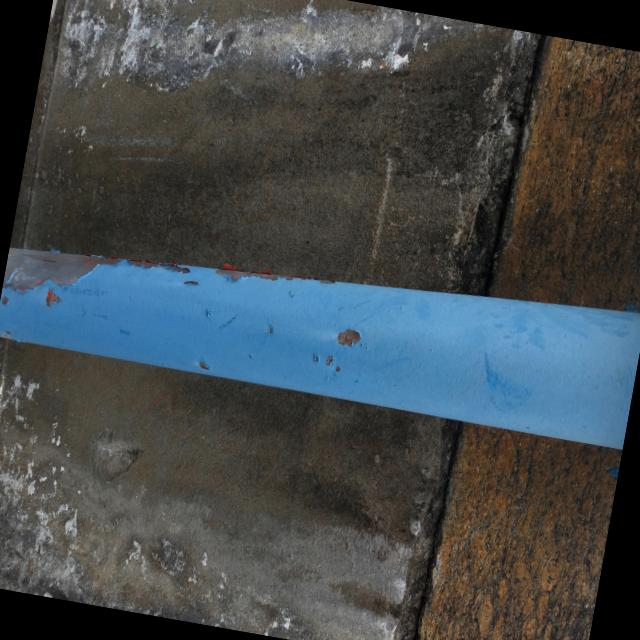gas: (0, 243, 640, 447)
